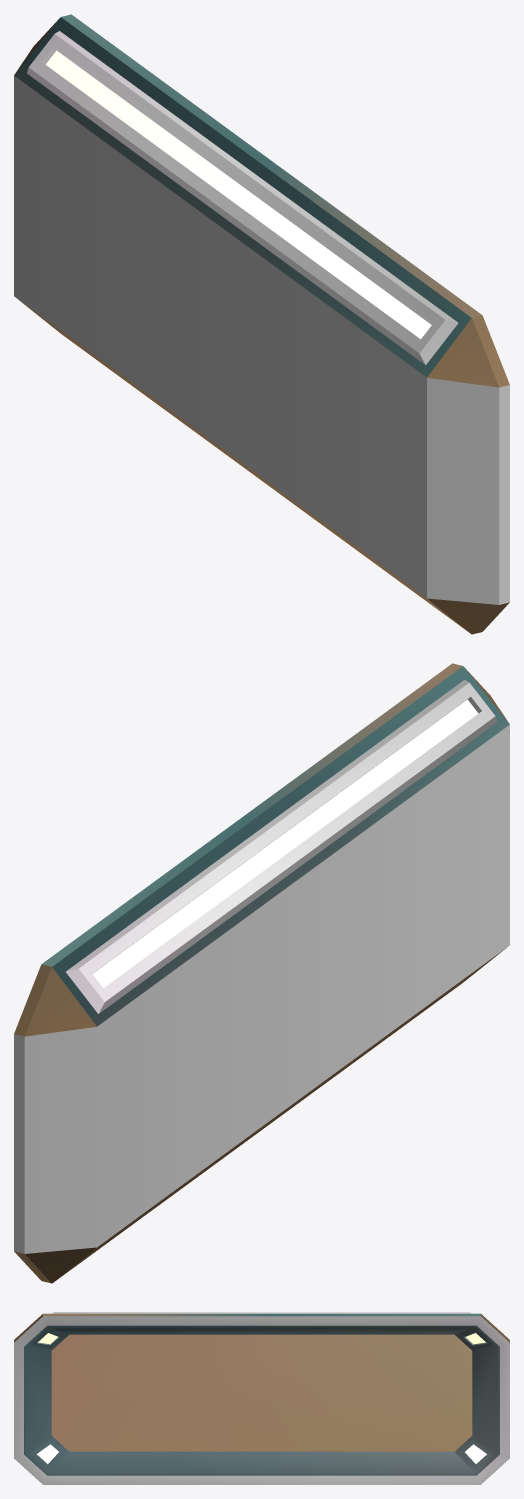
File: C_Cap_Big.fbx
3 views of the same model, one above another, from view 1: azimuth 30°, elevation 25°; view 2: azimuth 150°, elevation 25°; view 3: azimuth 270°, elevation 25° (orthographic). The views are drawn at different scales.
Visible parts, largest first — view 1: C_Cap_Big; view 2: C_Cap_Big; view 3: C_Cap_Big.
Part boxes in pixels (left/top/right/bottom): C_Cap_Big: left=14, top=14, right=509, bottom=634; C_Cap_Big: left=14, top=663, right=509, bottom=1283; C_Cap_Big: left=14, top=1312, right=509, bottom=1484.
Size of the model in its own units: 61.72 by 330 by 880.
